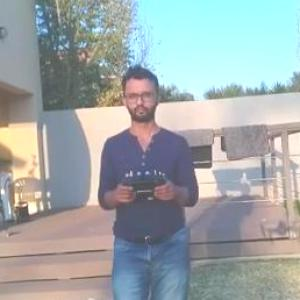follow: (93, 57, 206, 299)
